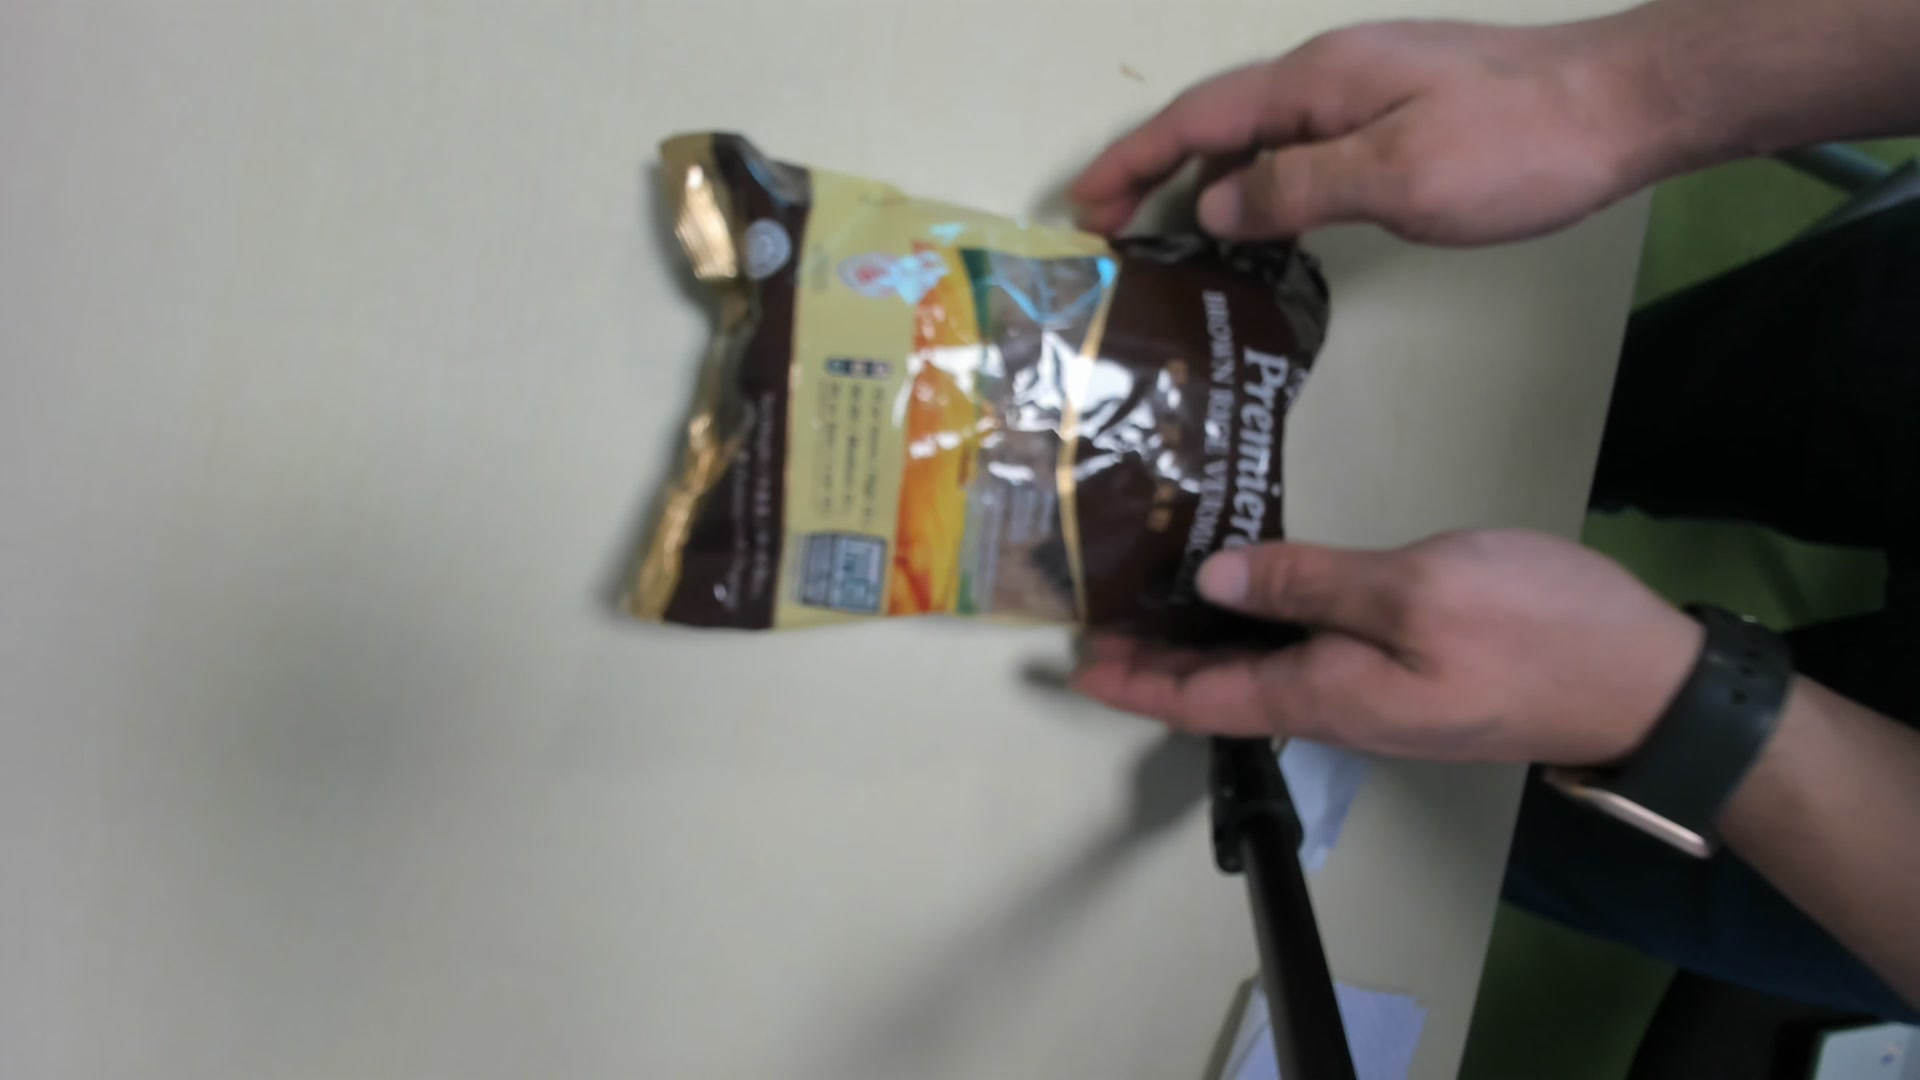BeeHoonVermicelli_300-399g_Halal_Healthy: (640, 146, 1309, 667)
